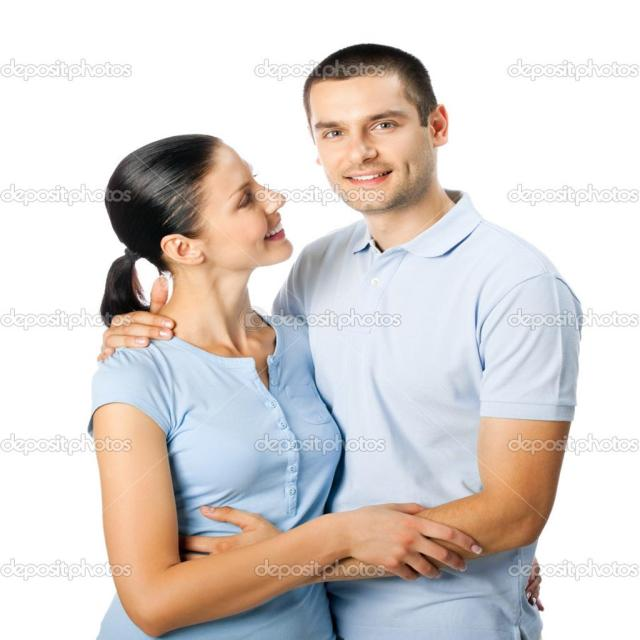Face: (306, 72, 431, 211), (177, 141, 296, 269)
